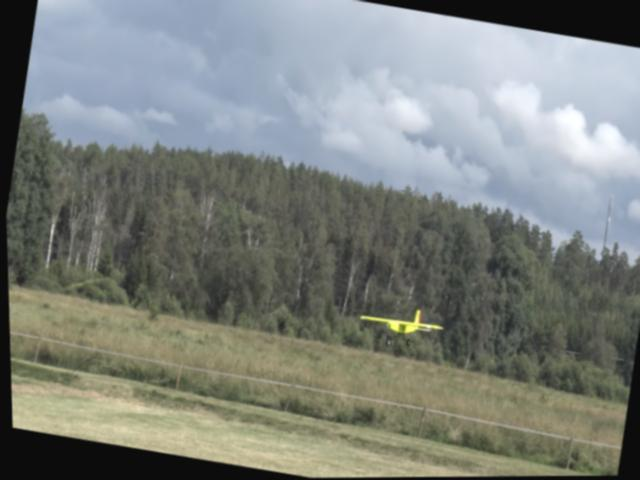plane: (353, 298, 446, 355)
